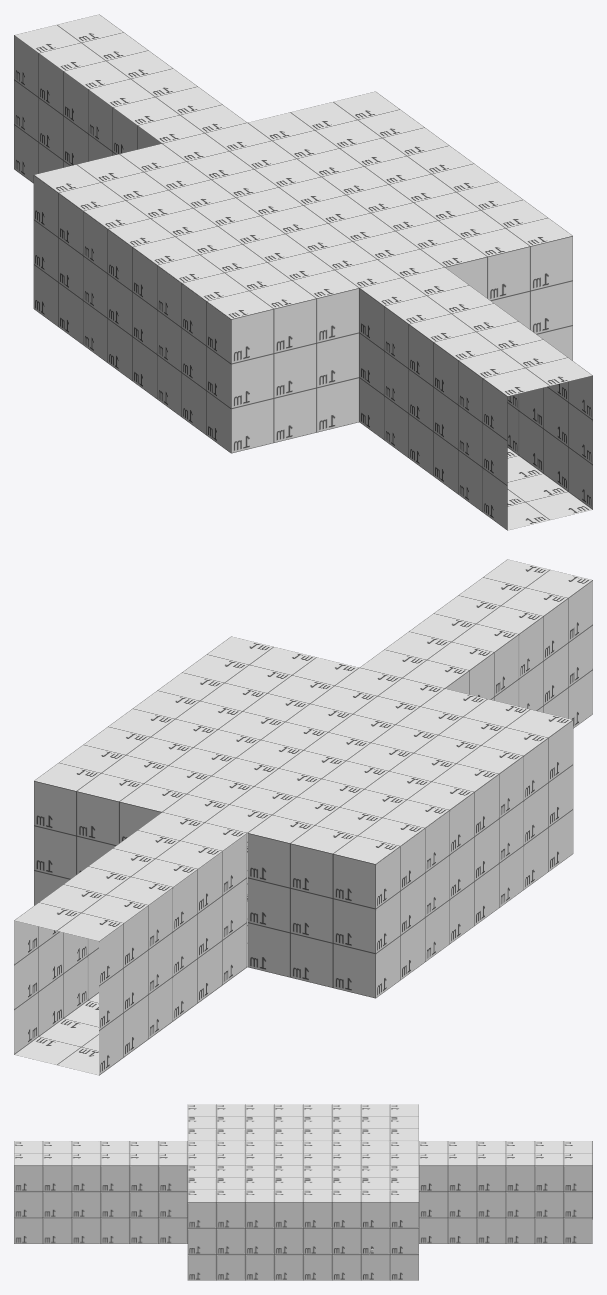
Rendered from room.obj.
3 views of the same model, one above another, from view 1: azimuth 30°, elevation 25°; view 2: azimuth 150°, elevation 25°; view 3: azimuth 270°, elevation 25° (orthographic). The views are drawn at different scales.
Parts seen in each view (by area): view 1: Tile_Plane; view 2: Tile_Plane; view 3: Tile_Plane.
Boxes of the visible parts, x1=… form: Tile_Plane: x1=14, y1=14, x2=592, y2=530; Tile_Plane: x1=14, y1=559, x2=592, y2=1075; Tile_Plane: x1=14, y1=1104, x2=592, y2=1280.
Bounding box in the file's own units: 8.03 × 3.03 × 20.01.
